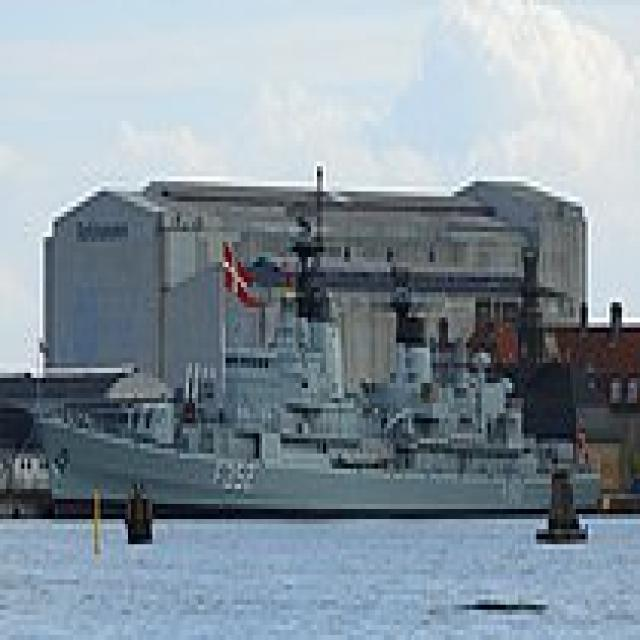Warship: (24, 161, 600, 514)
